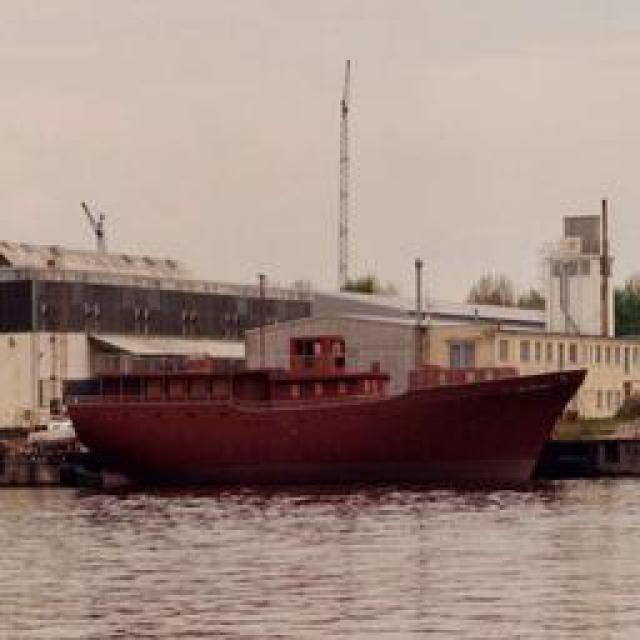Ship: (70, 350, 585, 488)
